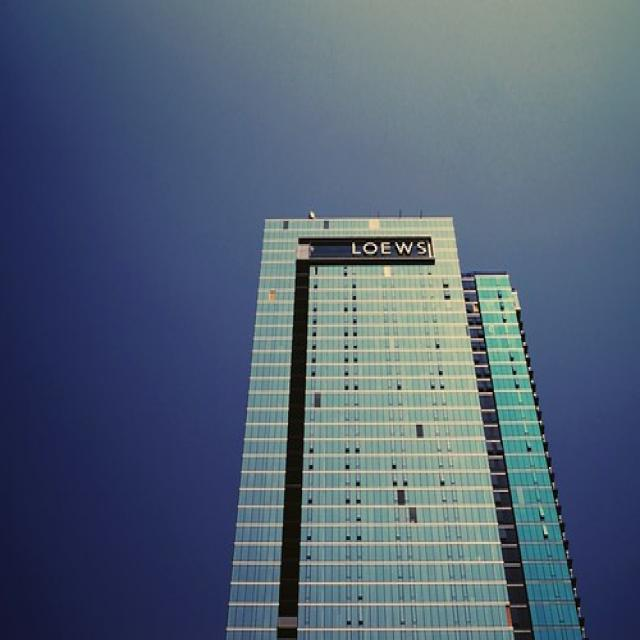Normal_building: (216, 203, 591, 640)
